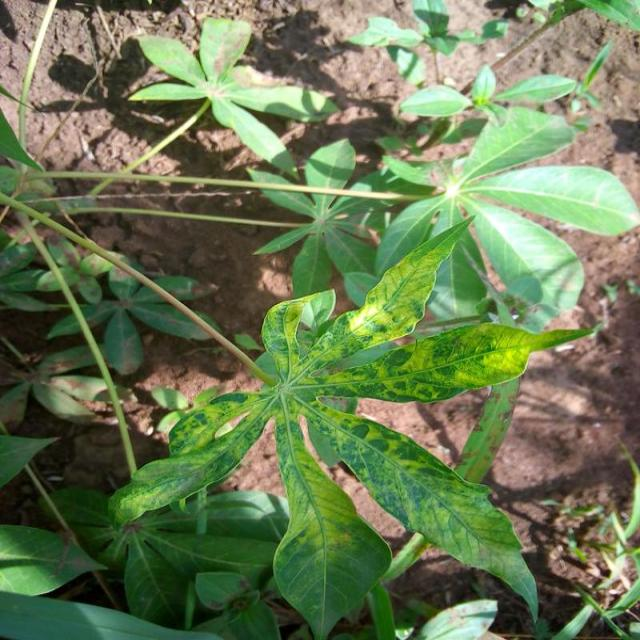cassava leaf: (106, 209, 596, 637), (127, 15, 342, 177)
